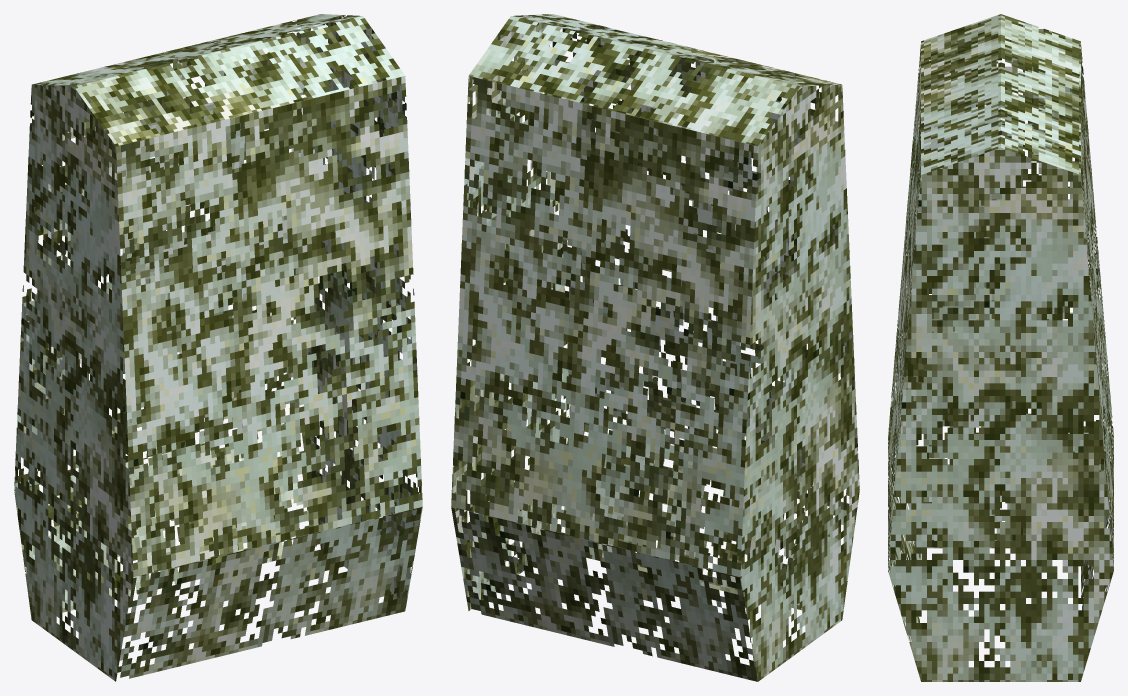
The model's file is bush_tall_half_winter.glb.
3 views of the same model, side by side, from view 1: azimuth 30°, elevation 25°; view 2: azimuth 150°, elevation 25°; view 3: azimuth 270°, elevation 25° (orthographic). The views are drawn at different scales.
Visible parts, largest first — view 1: bush_tall_half_winter; view 2: bush_tall_half_winter; view 3: bush_tall_half_winter.
Part boxes in pixels (x1,y1,x2,y2): bush_tall_half_winter: (14, 14, 422, 681); bush_tall_half_winter: (451, 14, 859, 681); bush_tall_half_winter: (888, 14, 1113, 681).
Bounding box in the file's own units: 1.01 × 1.88 × 0.7191.
1 material, 1 textured.
